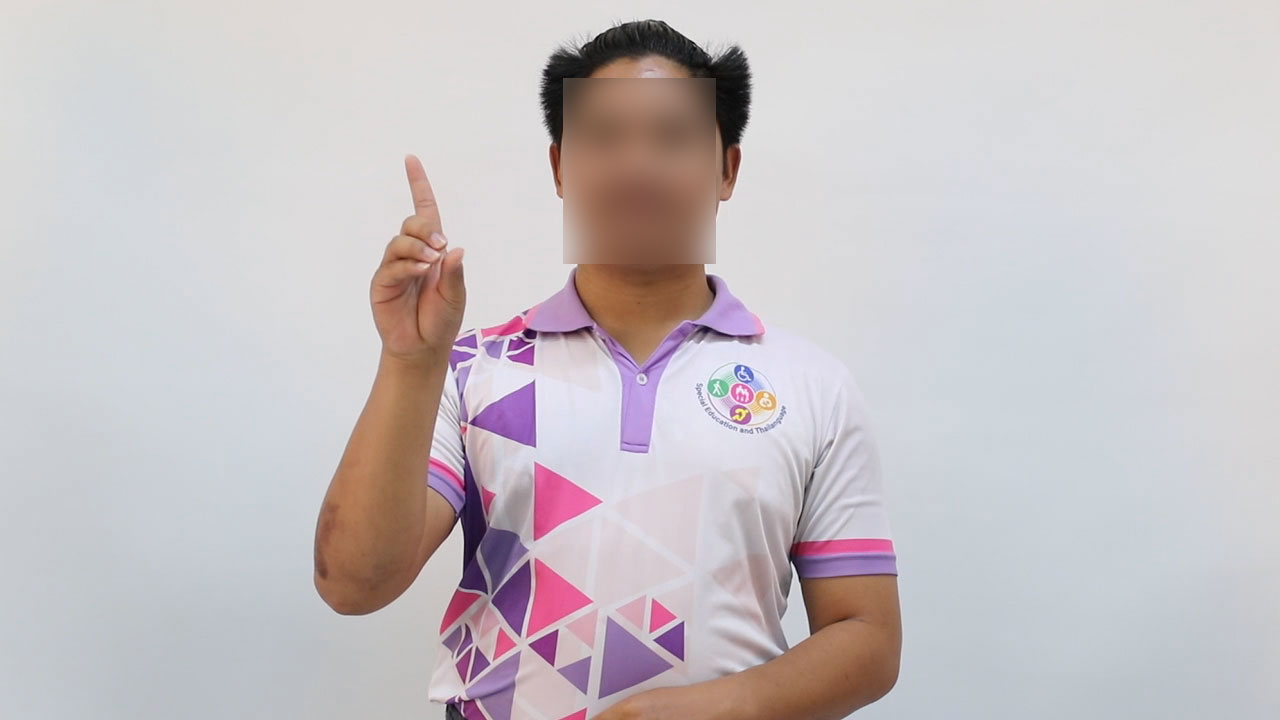dor: (345, 147, 483, 368)
